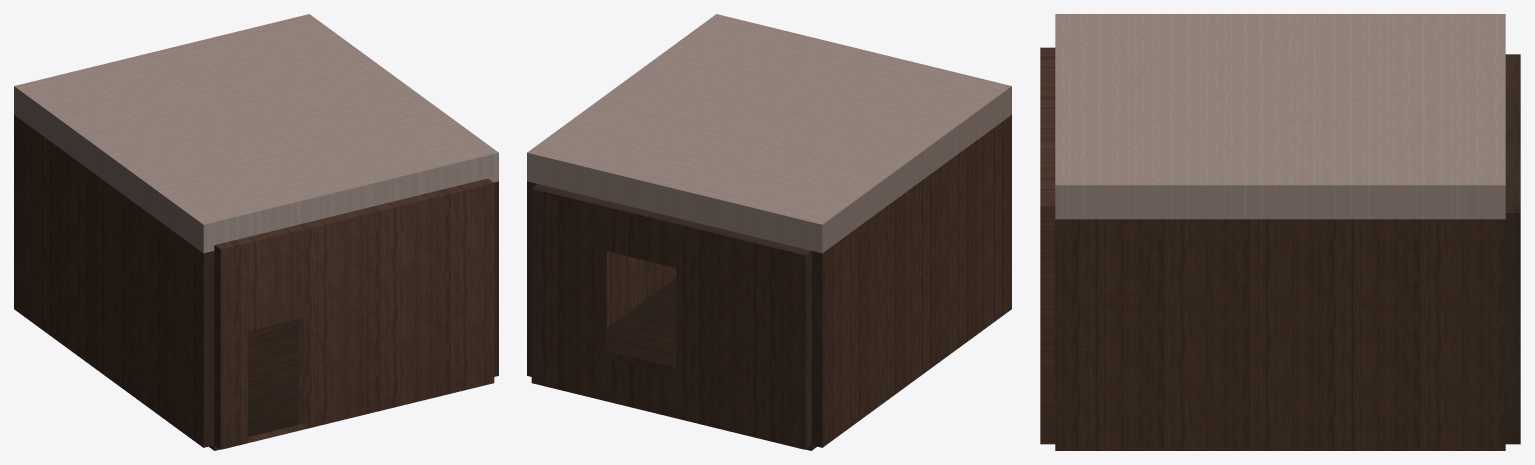
The model's file is BgMD_Tanihira_Kyoujuroom_0103.fbx.
The picture shows the model from 3 angles, left to right: view 1: azimuth 30°, elevation 25°; view 2: azimuth 150°, elevation 25°; view 3: azimuth 270°, elevation 25°; orthographic projection. The views are drawn at different scales.
Visible parts, largest first — view 1: polySurface12; view 2: polySurface12; view 3: polySurface12.
Part boxes in pixels (left/top/right/bottom): polySurface12: left=14, top=14, right=498, bottom=450; polySurface12: left=527, top=14, right=1011, bottom=450; polySurface12: left=1040, top=14, right=1520, bottom=450.
Bounding box in the file's own units: 540 × 400 × 640.
